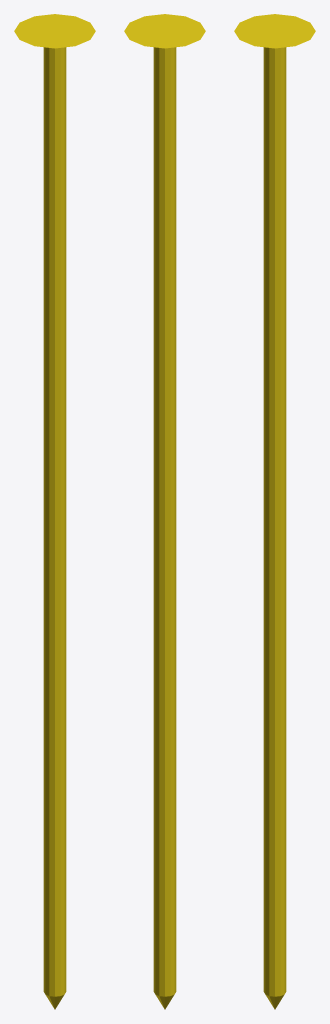
File: Nail.glb
3 renders of one model, left to right at view 1: azimuth 30°, elevation 25°; view 2: azimuth 150°, elevation 25°; view 3: azimuth 330°, elevation 25°, orthographic.
Visible parts, largest first — view 1: Staff; view 2: Staff; view 3: Staff.
Boxes of the visible parts, bbox=[...] form: Staff: bbox=[14, 14, 95, 1009]; Staff: bbox=[124, 14, 205, 1009]; Staff: bbox=[234, 14, 315, 1009].
Bounding box in the file's own units: 0.1267 × 1.67 × 0.1267.
